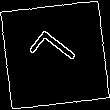L_SE: (26, 27, 84, 83)
